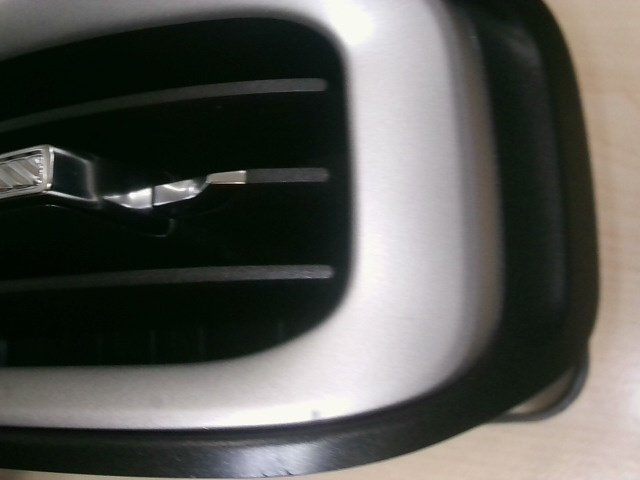NG: (371, 301, 439, 344)
